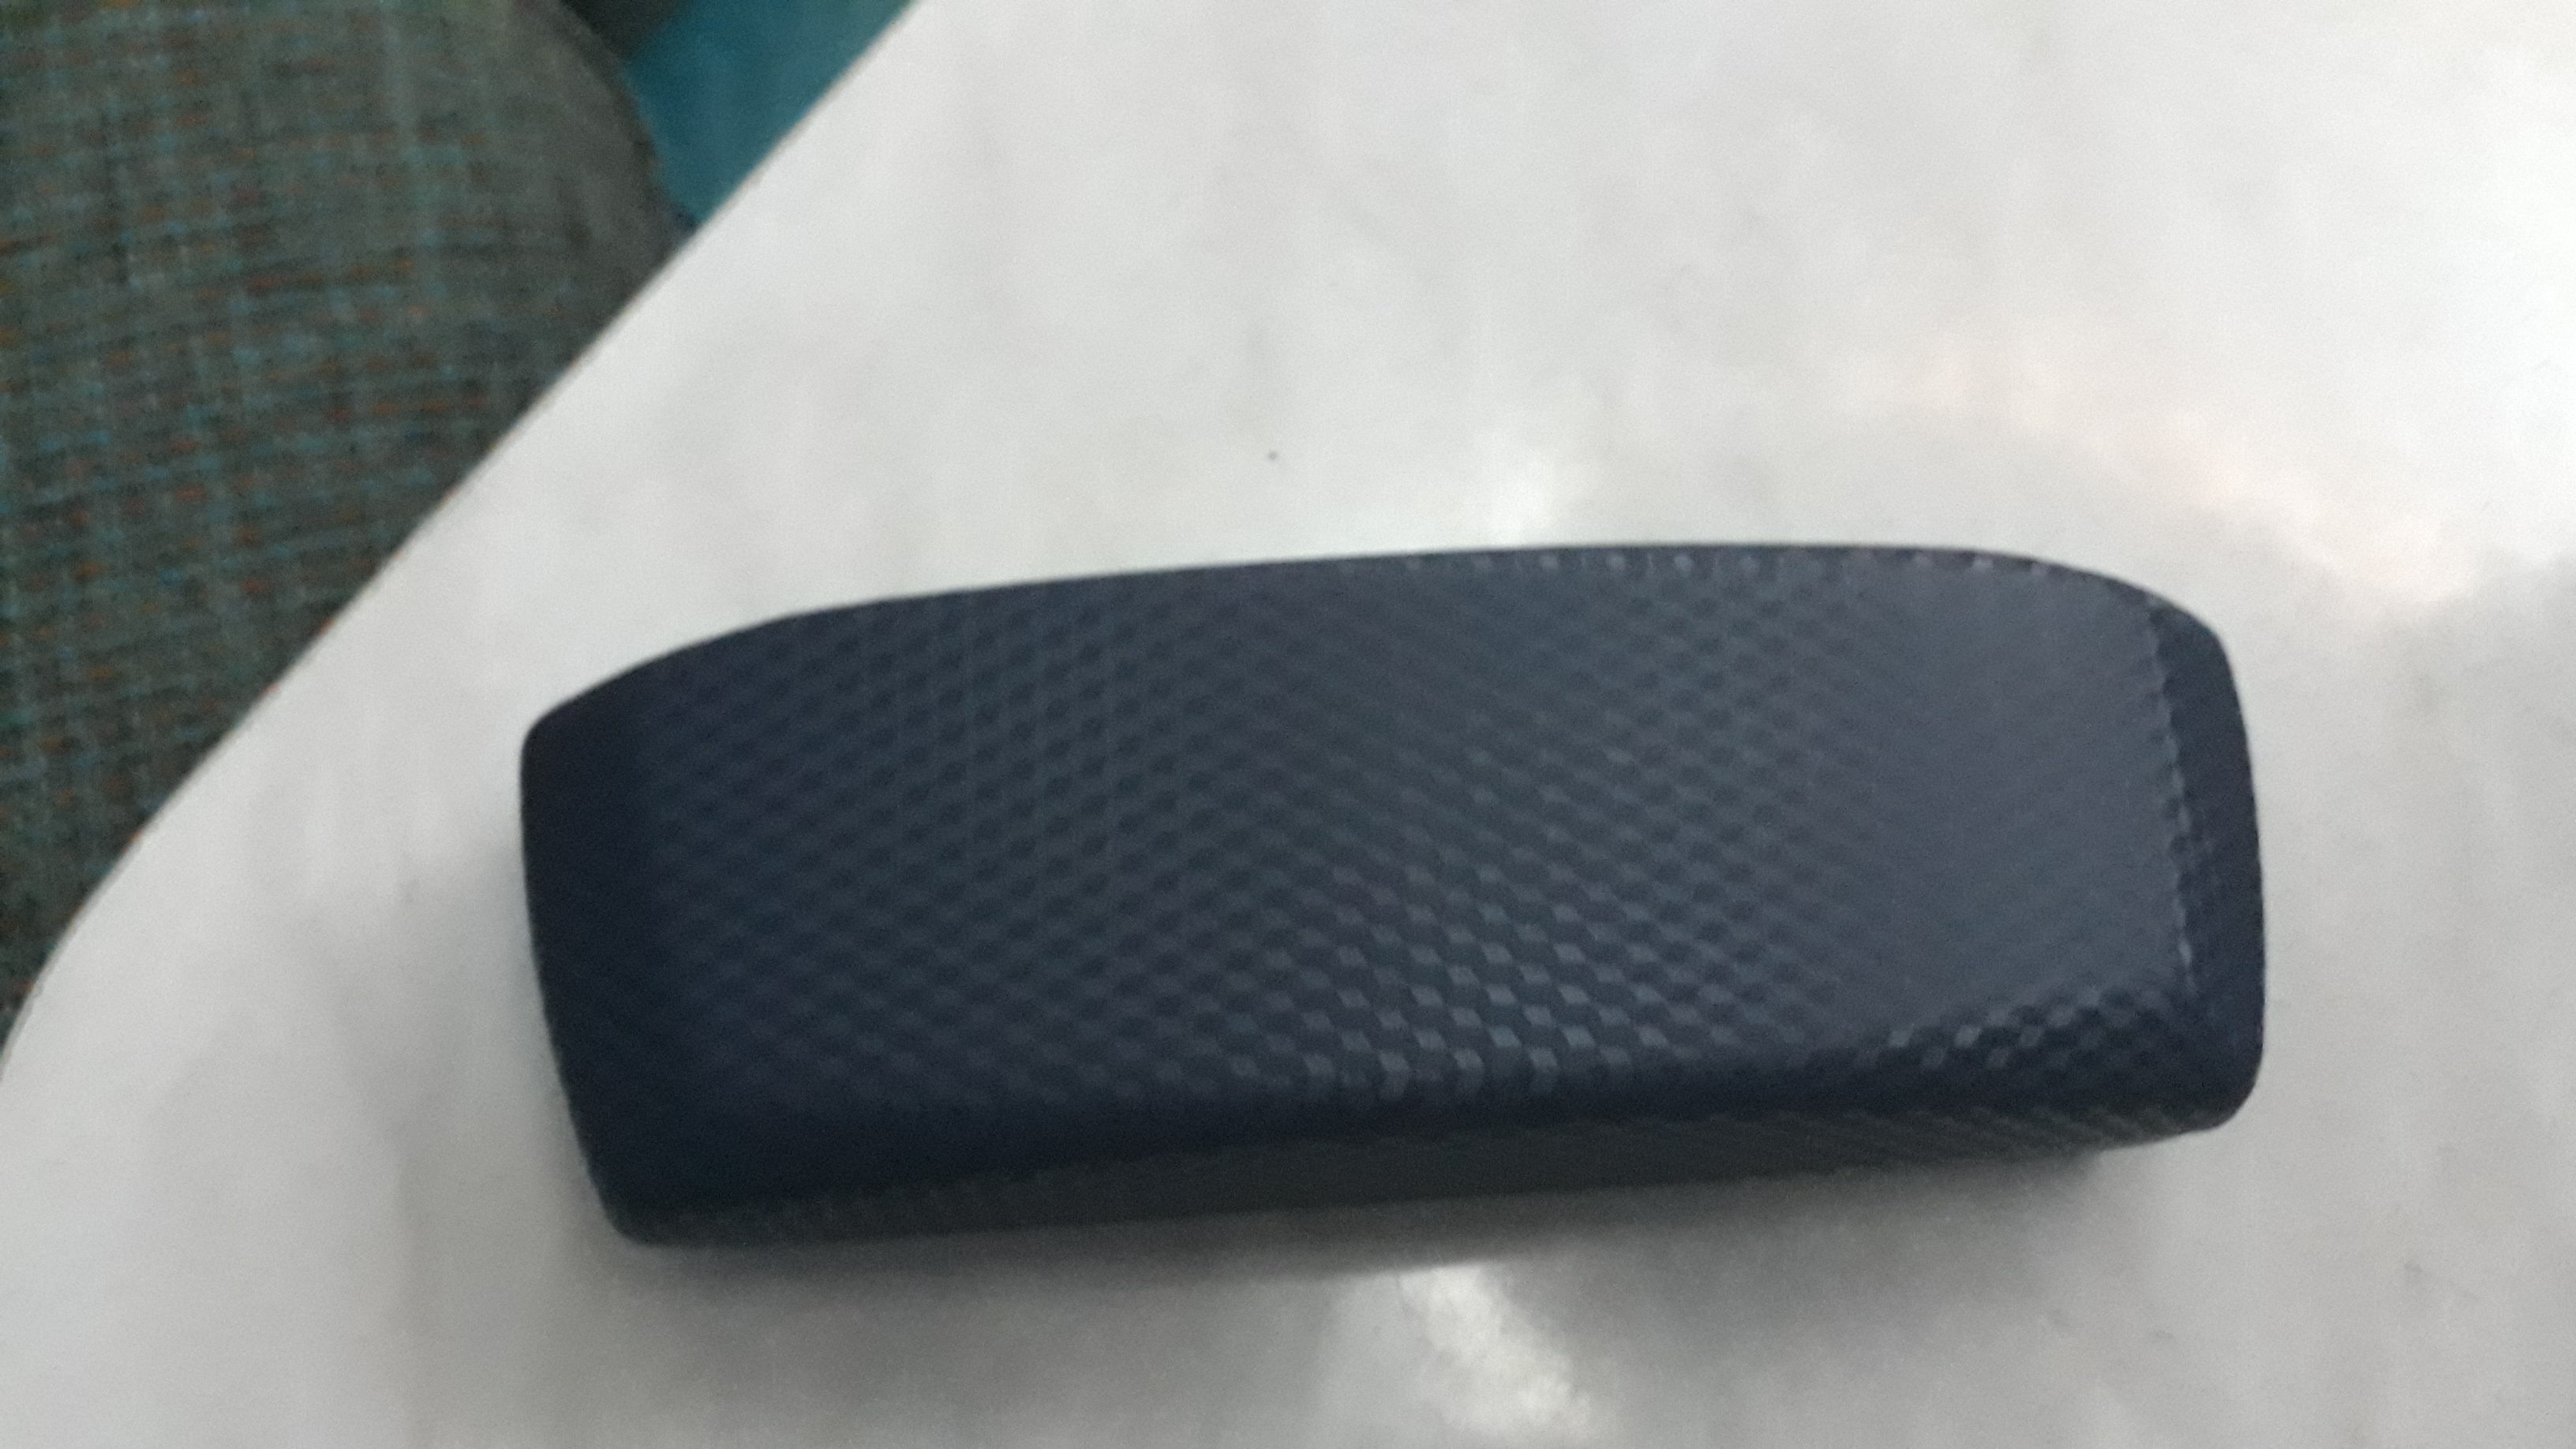nadar: (469, 517, 2319, 1320)
